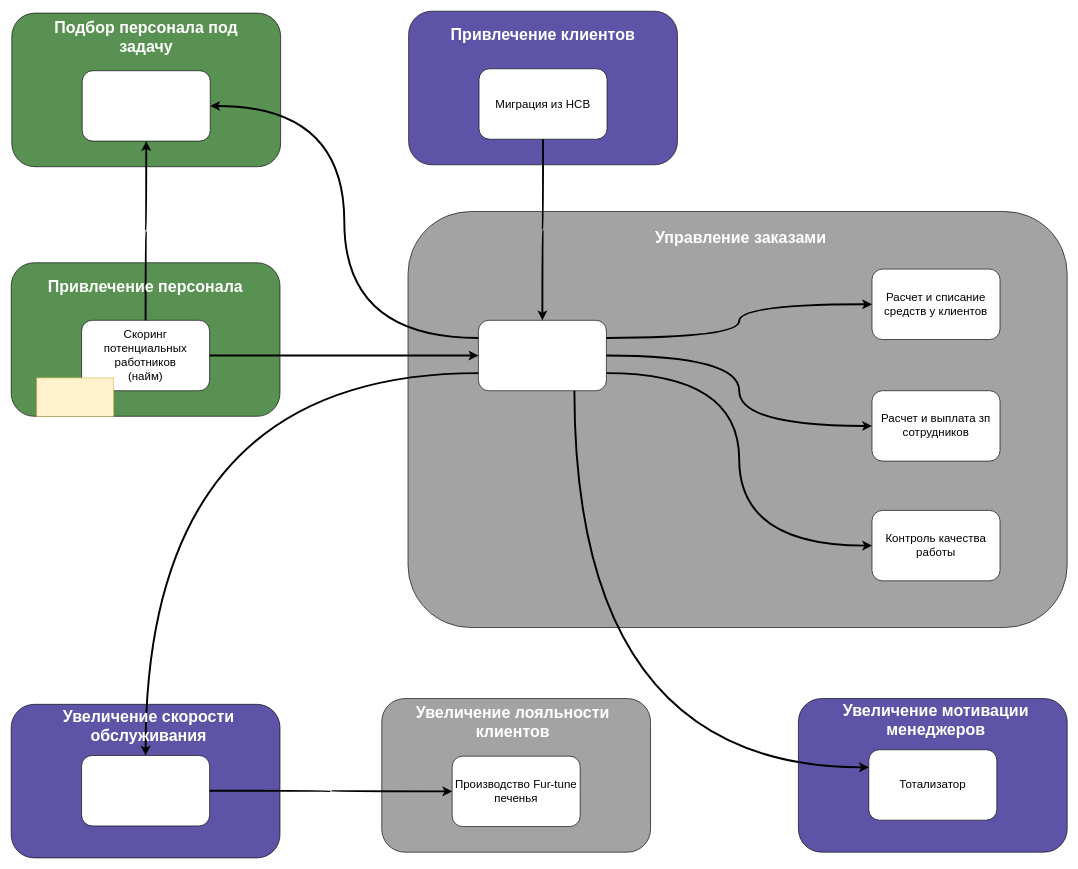
Some shapes in this 1078 by 869 pixel diagram are drawn without their labels. The shapes that lost their labels are listed below. From the top down, each one's box as (x1, y1, x2, y2) in pixels, then its label:
(82, 70, 210, 141): Матчинг клиентов и воркеров
(478, 320, 606, 391): Документооборот (планирование визитов)
(36, 377, 114, 416): т естирование воркеров
(81, 755, 210, 826): Сборка и выдача расходников
